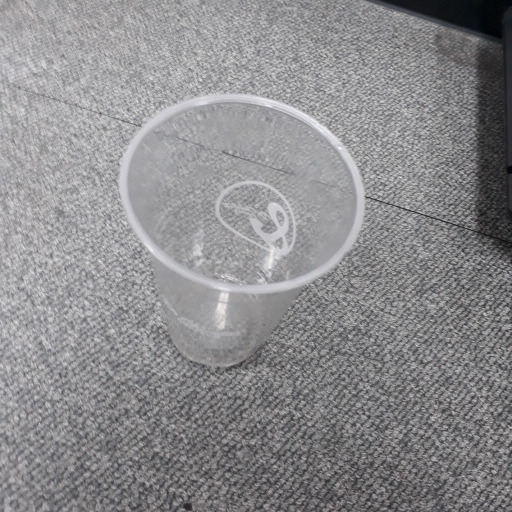Plastic_2: (115, 91, 365, 373)
